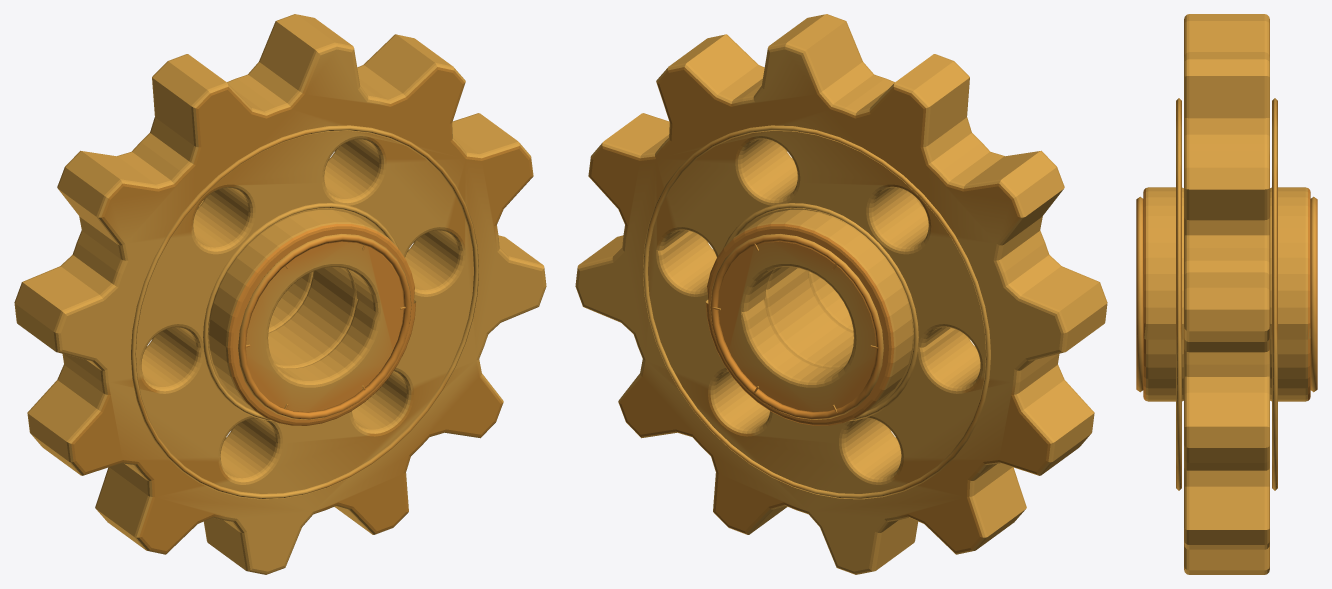
Rendered from workshop-cog-bronze-copper-more.glb.
3 renders of one model, left to right at view 1: azimuth 30°, elevation 25°; view 2: azimuth 150°, elevation 25°; view 3: azimuth 270°, elevation 25°, orthographic. The views are drawn at different scales.
Parts seen in each view (by area): view 1: brass; view 2: brass; view 3: brass.
Boxes of the visible parts, left/top/right/bottom form: brass: left=14, top=14, right=546, bottom=574; brass: left=575, top=14, right=1107, bottom=574; brass: left=1136, top=14, right=1317, bottom=574.
Size of the model in its own units: 0.2724 by 0.2724 by 0.0888.
